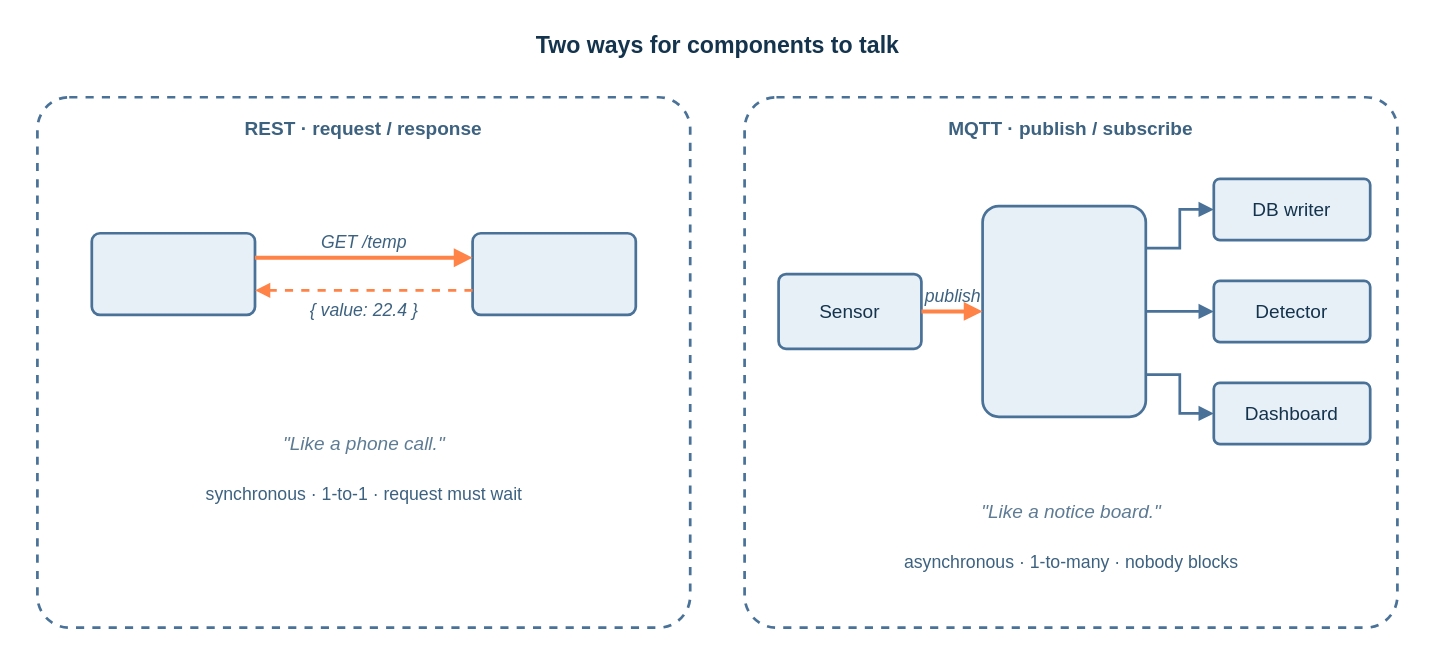
The diagram is 1433 pixels wide and 651 high, and some of its shapes have lost their labels. The shapes that lost their labels are listed below. From the top down, each one's box as (x1, y1, x2, y2) in pixels, then its label:
(90, 231, 256, 316): Client
(471, 231, 636, 316): Server
(981, 204, 1146, 418): BROKER topic: sensors/#
